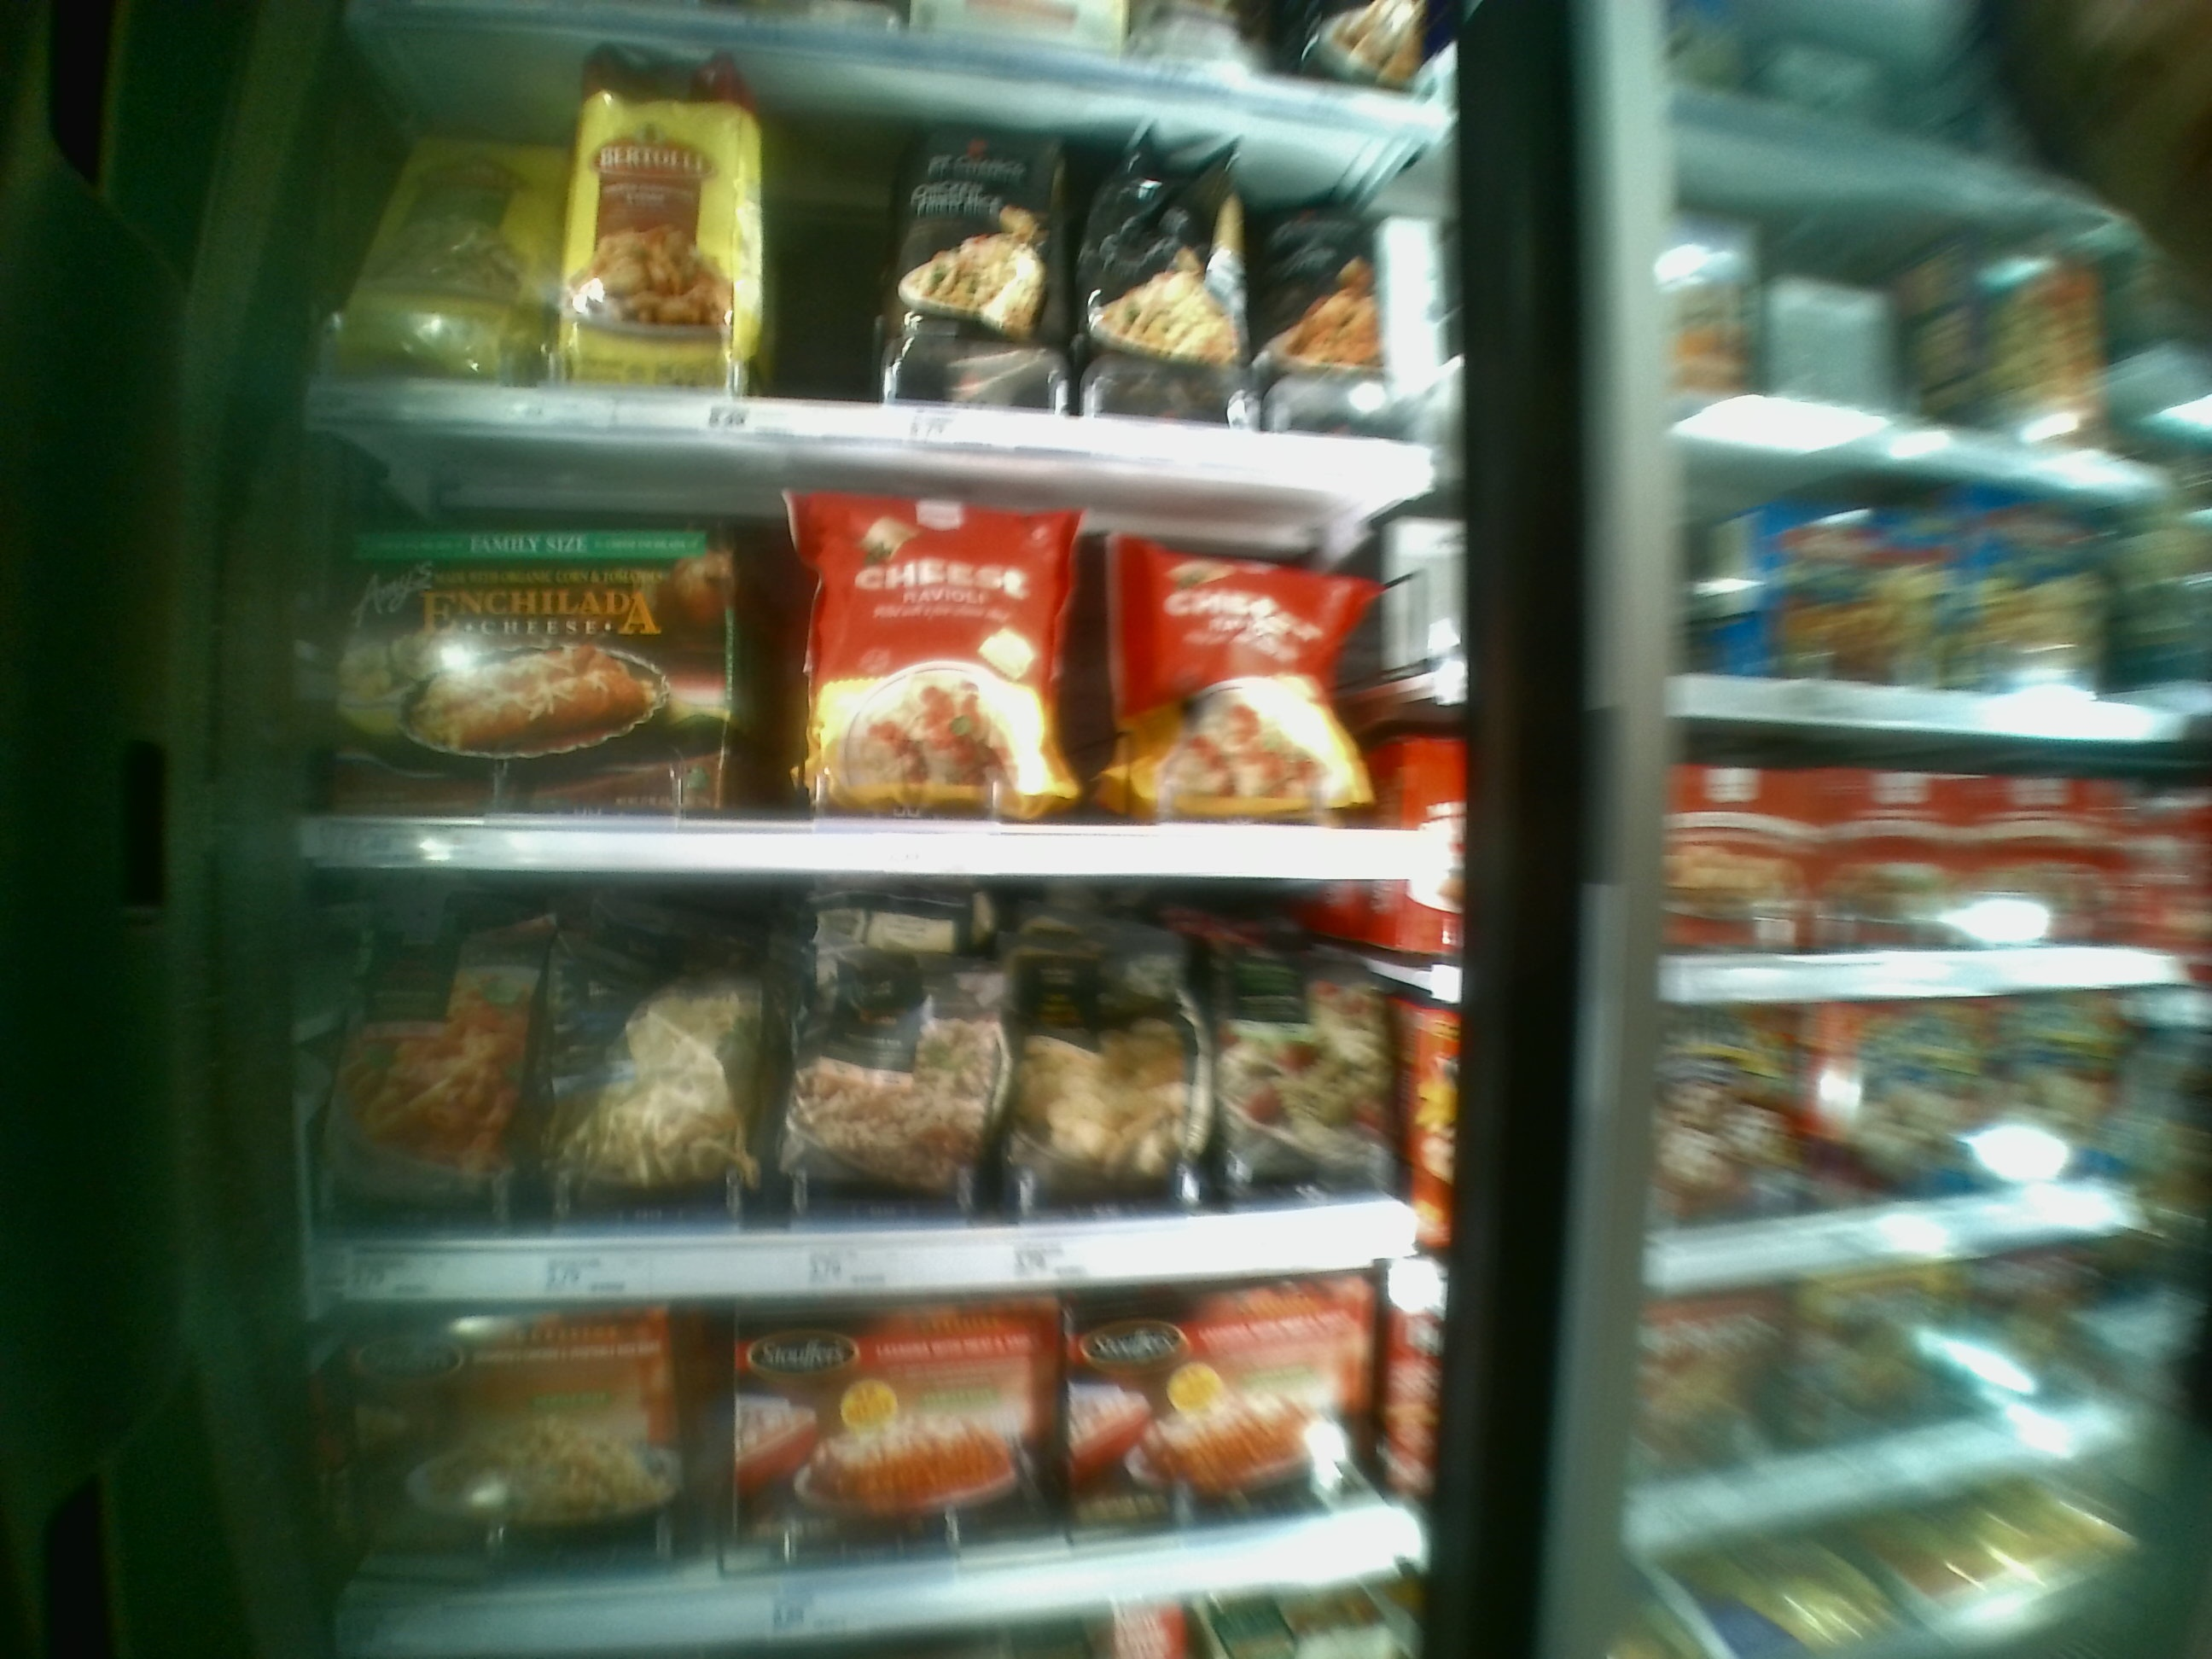frozen-food-shelf: (282, 448, 1435, 880), (298, 892, 1409, 1283)
